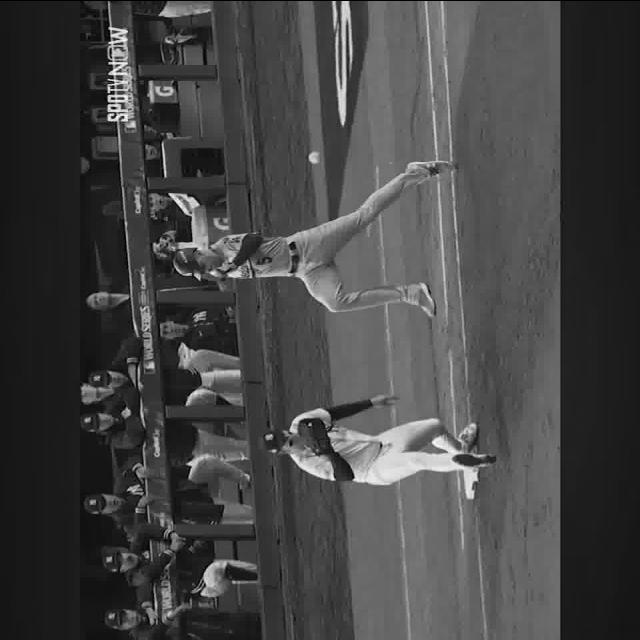base: (463, 469, 478, 499)
baseball: (308, 152, 320, 162)
baseball_glove: (298, 418, 333, 454)
shoe: (407, 281, 437, 316), (407, 159, 458, 176), (452, 451, 494, 466), (457, 421, 478, 451)
